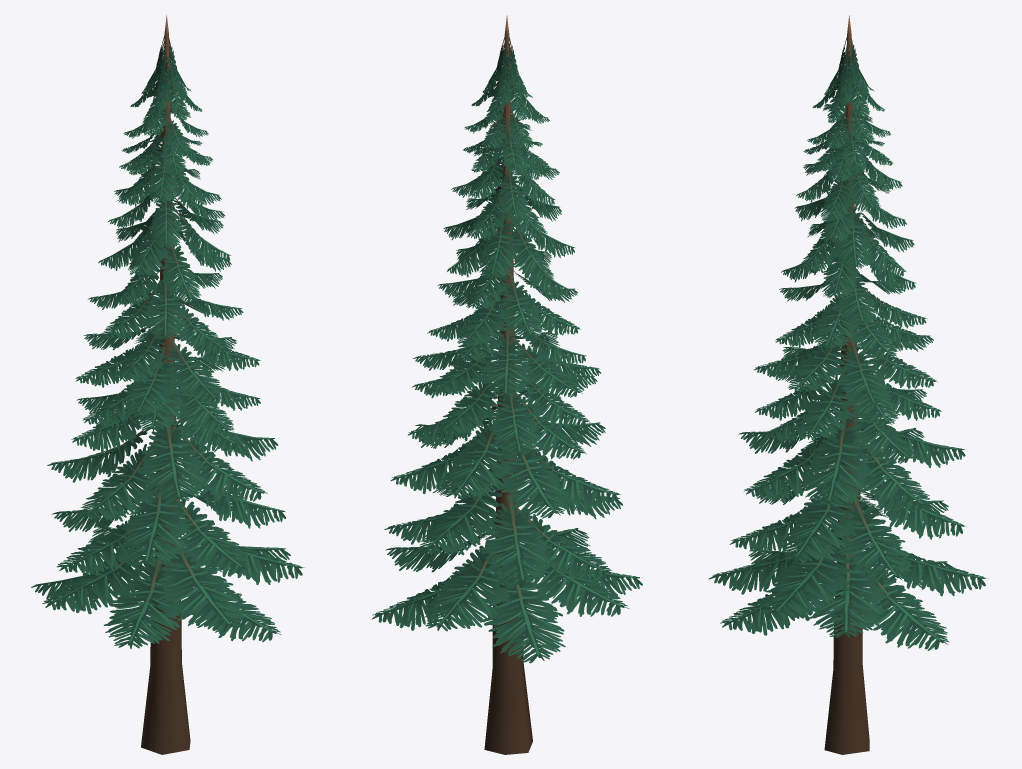
Rendered from Pine_Tree_3D.fbx.
3 views of the same model, side by side, from view 1: azimuth 30°, elevation 25°; view 2: azimuth 150°, elevation 25°; view 3: azimuth 270°, elevation 25° (orthographic).
Visible parts, largest first — view 1: Pine_Tree_3D; view 2: Pine_Tree_3D; view 3: Pine_Tree_3D.
Boxes of the visible parts, x1,y1,x2,y2 form: Pine_Tree_3D: (31,15,304,754); Pine_Tree_3D: (372,15,642,754); Pine_Tree_3D: (708,15,988,754).
Bounding box in the file's own units: 844 × 2146 × 844.
